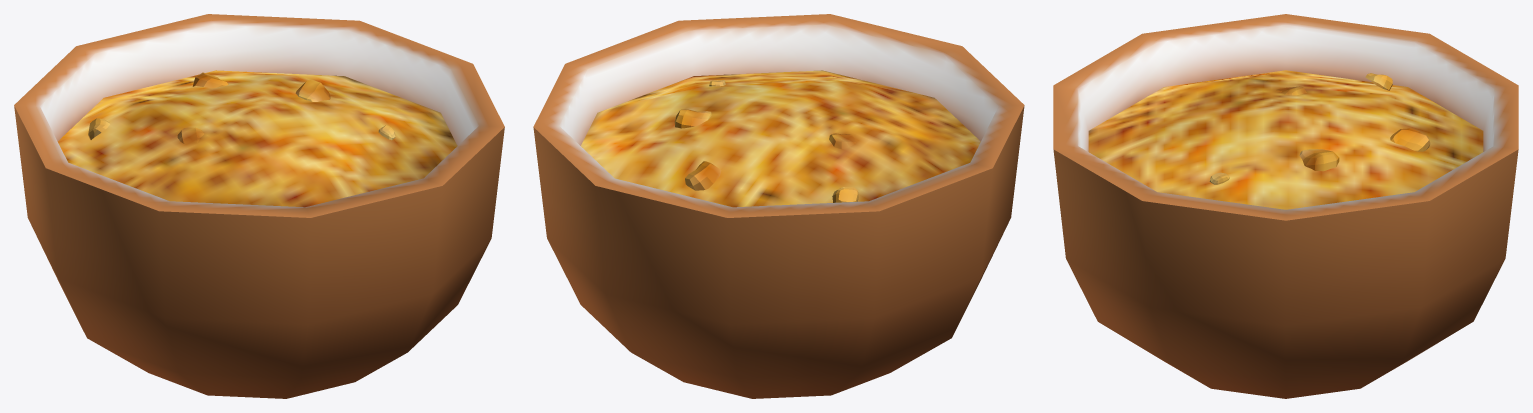
The model's file is BowlDip.fbx.
The picture shows the model from 3 angles, left to right: view 1: azimuth 30°, elevation 25°; view 2: azimuth 150°, elevation 25°; view 3: azimuth 270°, elevation 25°; orthographic projection.
Parts seen in each view (by area): view 1: BowlDip; view 2: BowlDip; view 3: BowlDip.
Boxes of the visible parts, x1,y1,x2,y2 form: BowlDip: (14, 14, 504, 398); BowlDip: (533, 14, 1024, 398); BowlDip: (1053, 14, 1518, 398).
Bounding box in the file's own units: 27.48 × 14.54 × 26.14.
